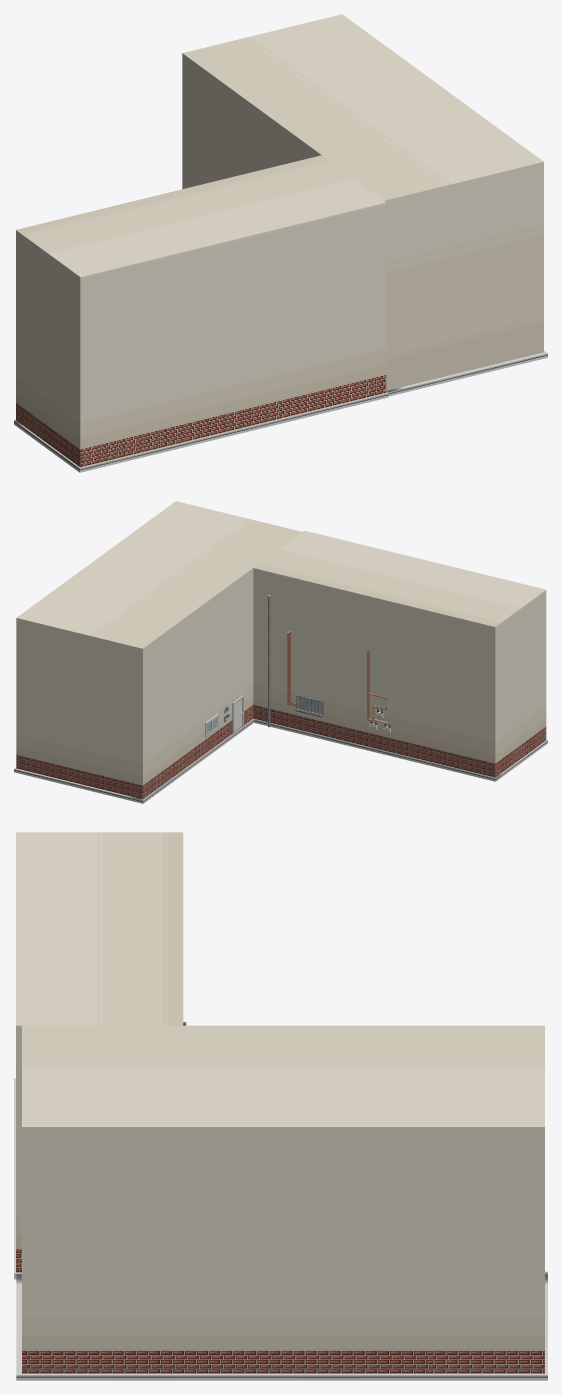
File: alley building.fbx
3 renders of one model, top to bottom at view 1: azimuth 30°, elevation 25°; view 2: azimuth 150°, elevation 25°; view 3: azimuth 270°, elevation 25°, orthographic. The views are drawn at different scales.
Visible parts, largest first — view 1: 왼쪽 건물, Cube.002, Cube.001, Cube.003; view 2: 왼쪽 건물, Cube.002, Cube.001, Cube.003, pipe.004, Cube.013; view 3: Cube.002, 왼쪽 건물, Cube.003.
Boxes of the visible parts, x1=… form: 왼쪽 건물: x1=16, y1=155, x2=386, y2=467; Cube.002: x1=182, y1=14, x2=543, y2=390; Cube.001: x1=14, y1=392, x2=388, y2=472; Cube.003: x1=386, y1=351, x2=547, y2=396; 왼쪽 건물: x1=253, y1=530, x2=546, y2=777; Cube.002: x1=16, y1=501, x2=301, y2=799; Cube.001: x1=253, y1=718, x2=547, y2=781; Cube.003: x1=14, y1=719, x2=254, y2=803; pipe.004: x1=268, y1=595, x2=270, y2=727; Cube.013: x1=232, y1=695, x2=243, y2=734; Cube.002: x1=22, y1=1025, x2=544, y2=1373; 왼쪽 건물: x1=16, y1=832, x2=183, y2=1272; Cube.003: x1=16, y1=1271, x2=547, y2=1380.
Size of the model in its own units: 2933 by 1164 by 2231.
1 material, 1 textured.
